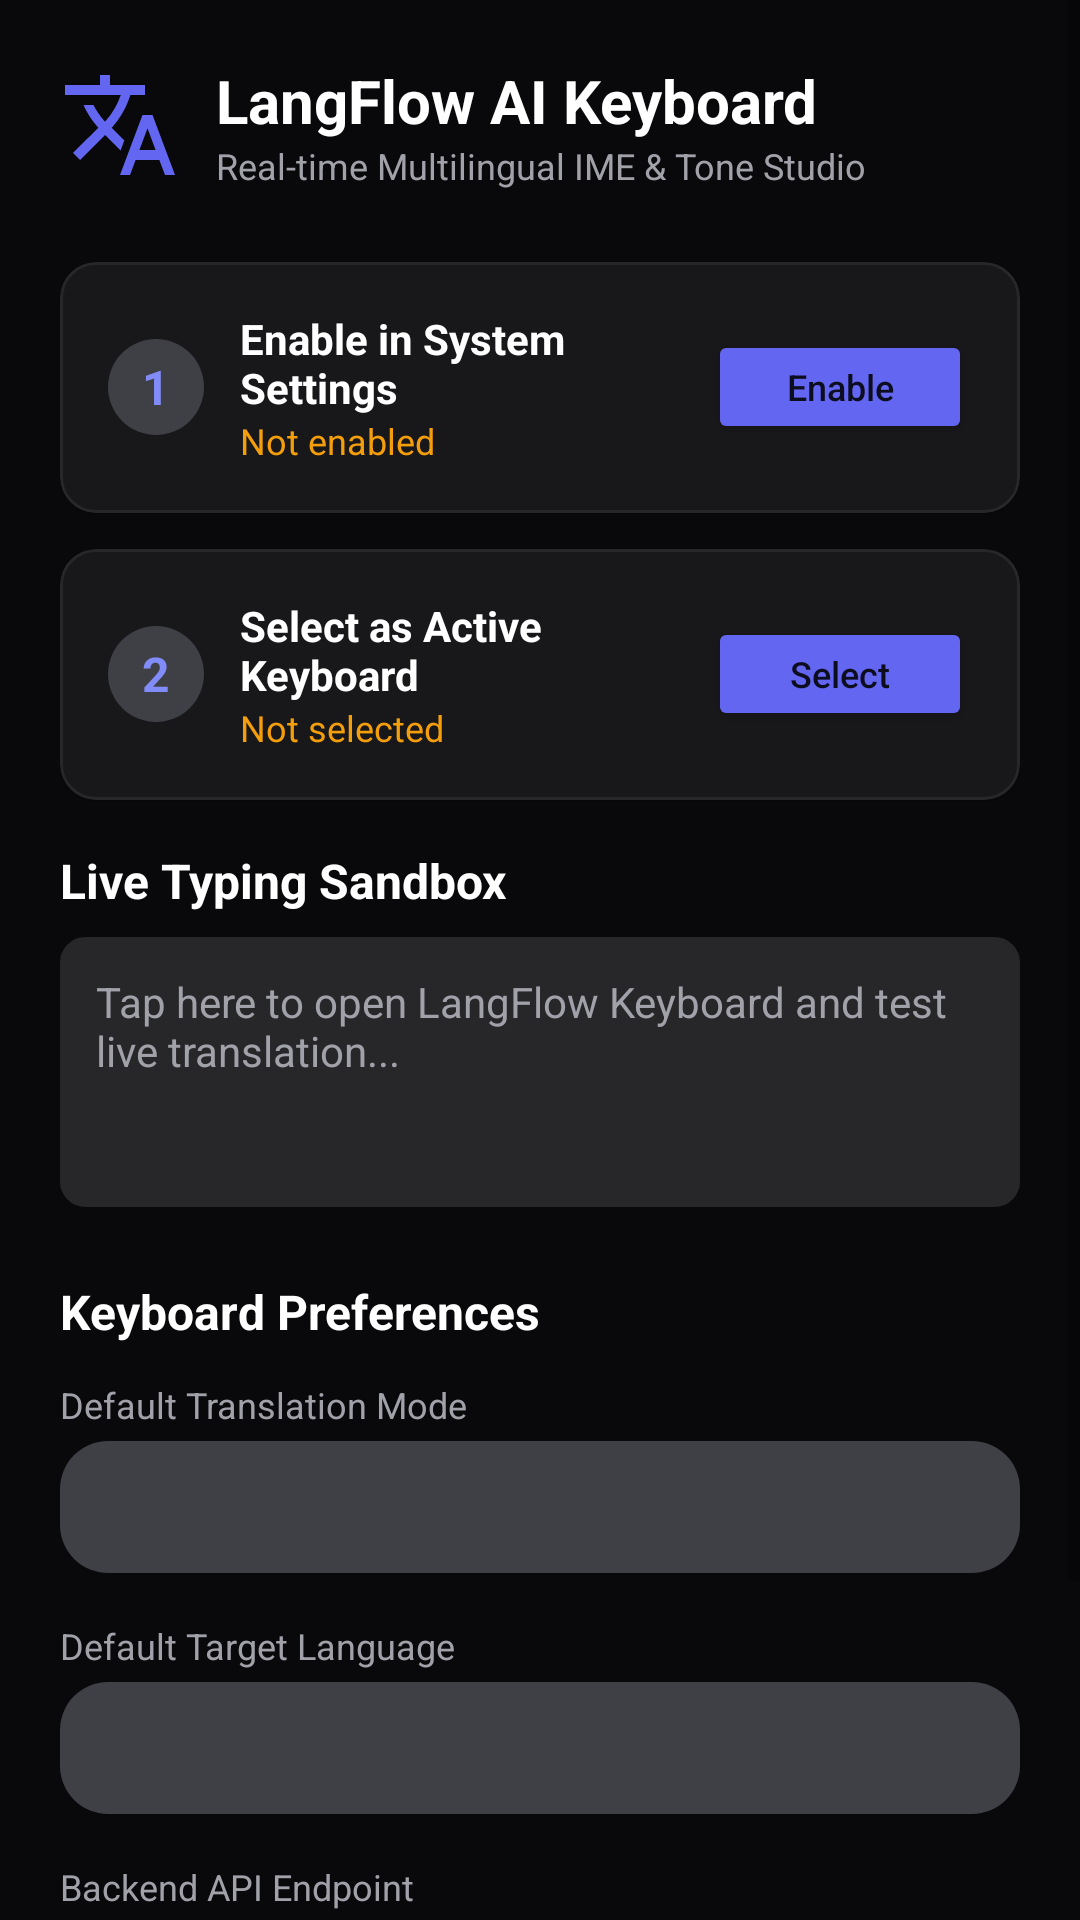

Point at icon controls on the screen. Image size 1080x1920, points as (x=x, y=y).
translate: (x=120, y=125)
